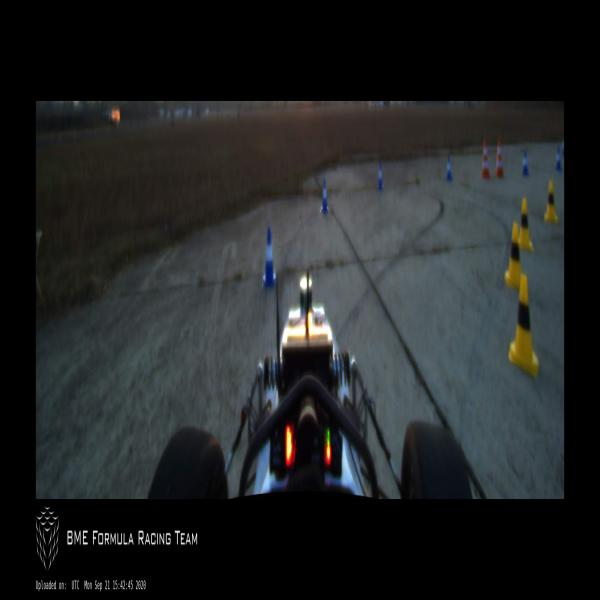blue_cone: (263, 228, 276, 286), (321, 179, 329, 211), (377, 162, 384, 189), (522, 150, 528, 176), (446, 155, 452, 180), (555, 146, 561, 171), (562, 138, 564, 156)
large_orange_cone: (481, 138, 490, 179), (496, 137, 504, 177)
yellow_cone: (509, 274, 539, 380), (504, 223, 524, 288), (518, 198, 534, 253), (544, 180, 558, 224)
